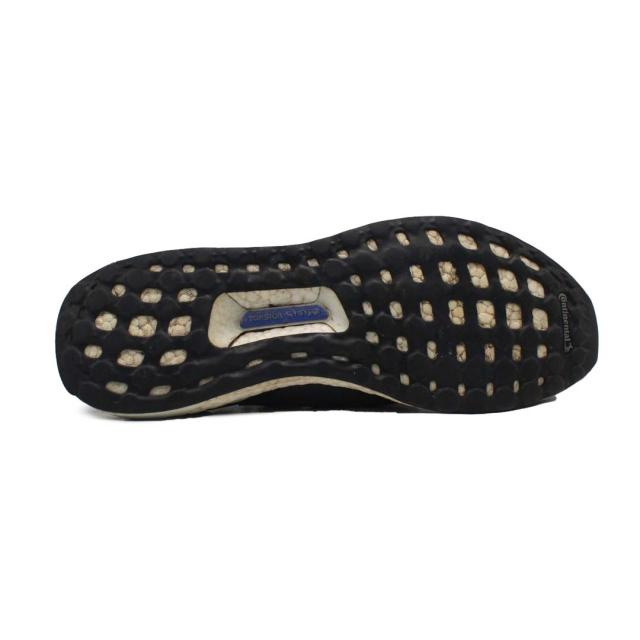outersole: (55, 213, 599, 419)
